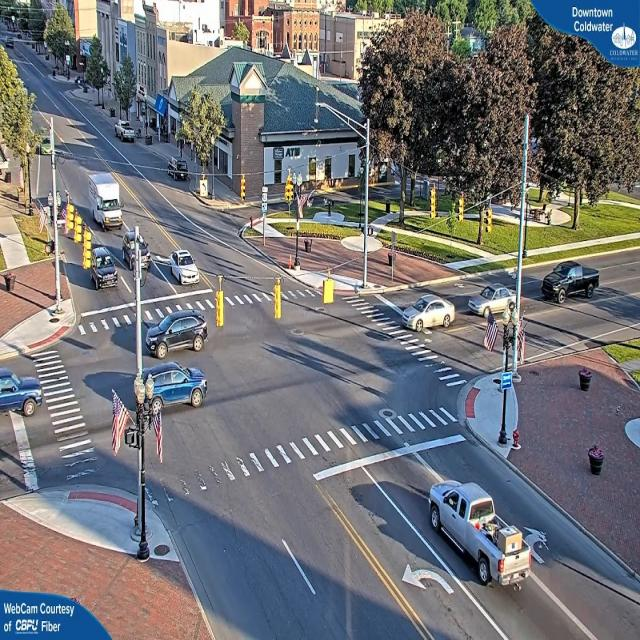car: (424, 468, 532, 592), (151, 362, 209, 412), (149, 310, 209, 353), (542, 262, 602, 300), (0, 370, 42, 421), (466, 280, 515, 318), (409, 293, 454, 330), (167, 251, 200, 287), (123, 232, 149, 276), (90, 253, 117, 286), (586, 443, 606, 475), (116, 123, 136, 143)
truck: (89, 172, 126, 230)
